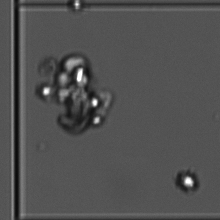Dead Cell: (58, 87, 83, 134)
Living Cell: (171, 166, 202, 197), (68, 1, 88, 20), (87, 94, 105, 112), (72, 68, 89, 85), (90, 112, 106, 128), (40, 85, 55, 100)
